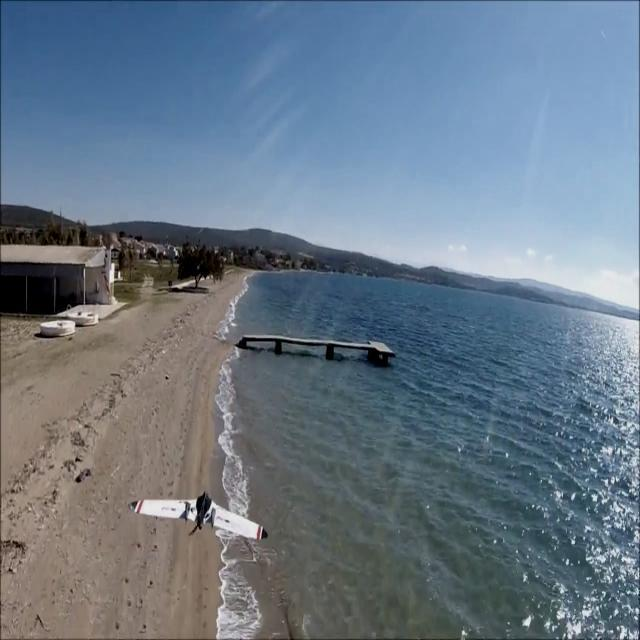iha: (126, 488, 259, 546)
